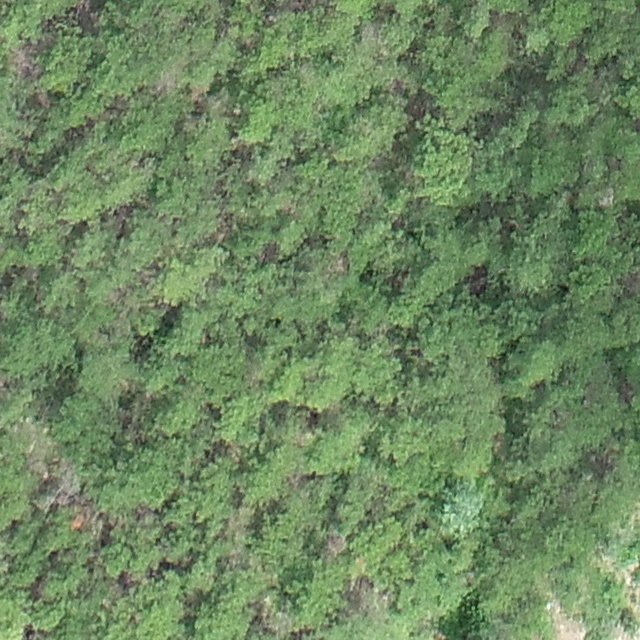unhealthy: (23, 455, 80, 508), (344, 572, 392, 615), (7, 41, 42, 79), (250, 594, 284, 633), (66, 499, 101, 533), (151, 62, 184, 98), (321, 534, 349, 561)
